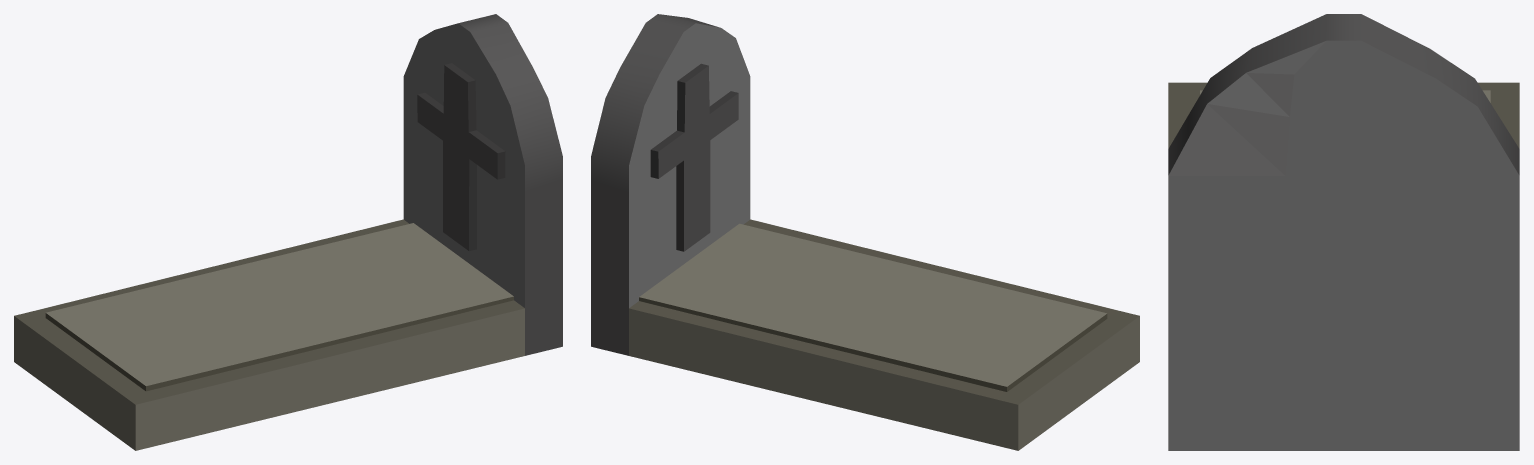
The model's file is tumbaFBX.FBX.
3 renders of one model, left to right at view 1: azimuth 30°, elevation 25°; view 2: azimuth 150°, elevation 25°; view 3: azimuth 270°, elevation 25°, orthographic. The views are drawn at different scales.
Parts seen in each view (by area): view 1: Box001; view 2: Box001; view 3: Box001.
Part boxes in pixels (x1,y1,x2,y2): Box001: (14,14,562,450); Box001: (591,14,1139,450); Box001: (1168,14,1519,450).
Size of the model in its own units: 17.79 by 11.29 by 8.76.
